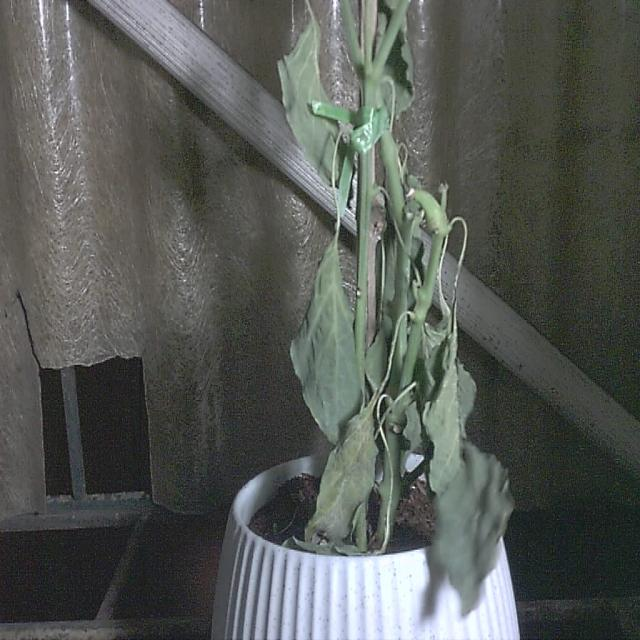Leaf: (288, 242, 364, 447)
